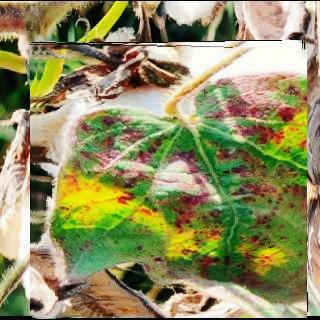blight: (30, 40, 307, 317)
